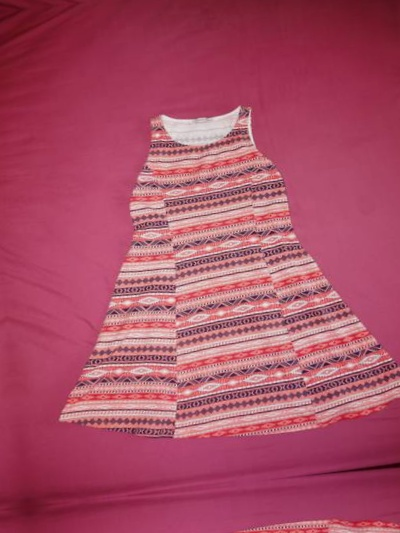Dress: (12, 73, 400, 470), (60, 497, 400, 533)
